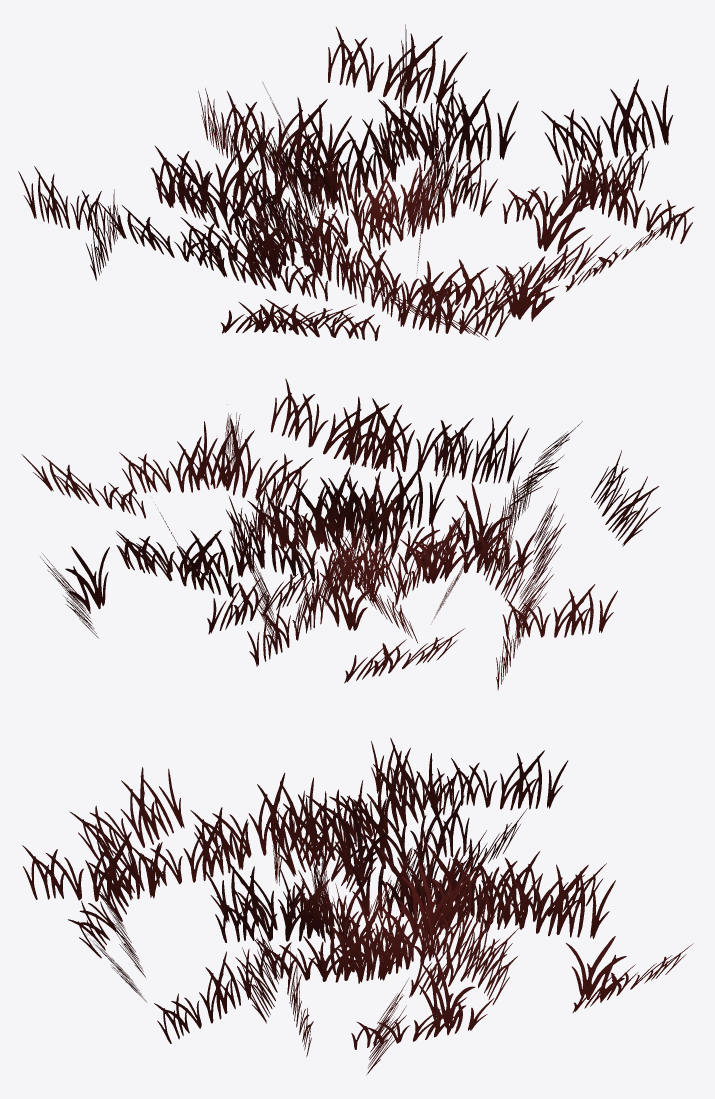
3 views of the same model, one above another, from view 1: azimuth 30°, elevation 25°; view 2: azimuth 150°, elevation 25°; view 3: azimuth 270°, elevation 25° (orthographic). The views are drawn at different scales.
Parts seen in each view (by area): view 1: SM_WT_GrassShort_03_LOD0; view 2: SM_WT_GrassShort_03_LOD0; view 3: SM_WT_GrassShort_03_LOD0.
Part boxes in pixels (x1,y1,x2,y2): SM_WT_GrassShort_03_LOD0: (18,24,694,340); SM_WT_GrassShort_03_LOD0: (21,378,660,690); SM_WT_GrassShort_03_LOD0: (22,738,693,1075).
Size of the model in its own units: 2.01 by 0.3167 by 1.93.
1 material, 1 textured.
